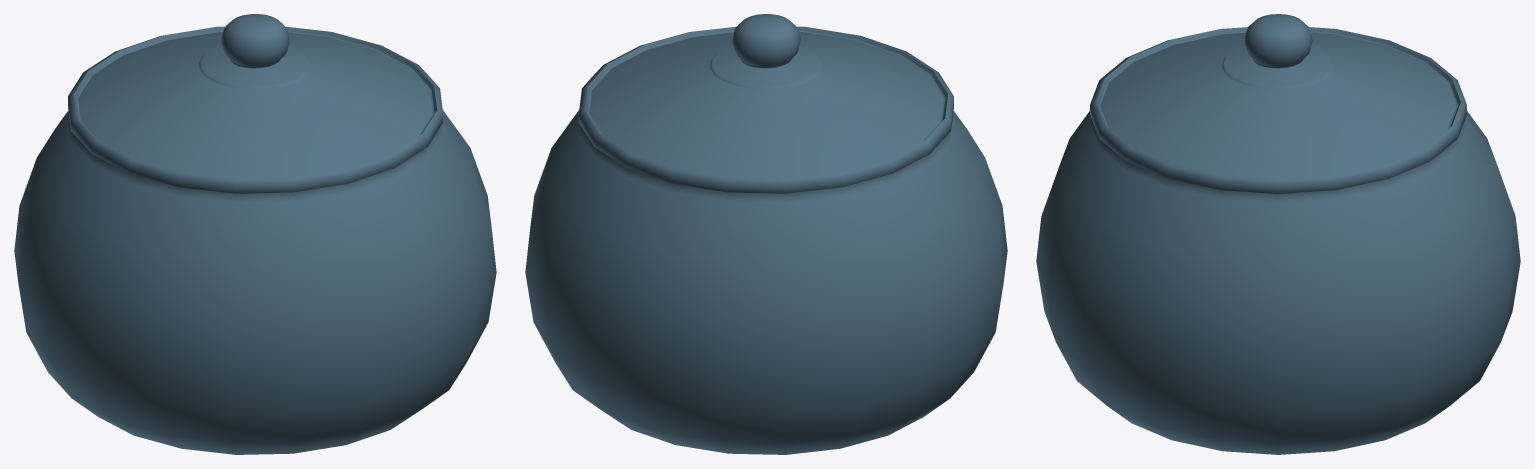
The model's file is Bottle_Clay_04.fbx.
The picture shows the model from 3 angles, left to right: view 1: azimuth 30°, elevation 25°; view 2: azimuth 150°, elevation 25°; view 3: azimuth 270°, elevation 25°; orthographic projection.
Visible parts, largest first — view 1: Bottle_Clay_04; view 2: Bottle_Clay_04; view 3: Bottle_Clay_04.
Part boxes in pixels (x1=…): Bottle_Clay_04: x1=14, y1=14, x2=496, y2=454; Bottle_Clay_04: x1=525, y1=14, x2=1007, y2=454; Bottle_Clay_04: x1=1036, y1=14, x2=1520, y2=454.
Bounding box in the file's own units: 0.5383 × 0.4633 × 0.5383.
